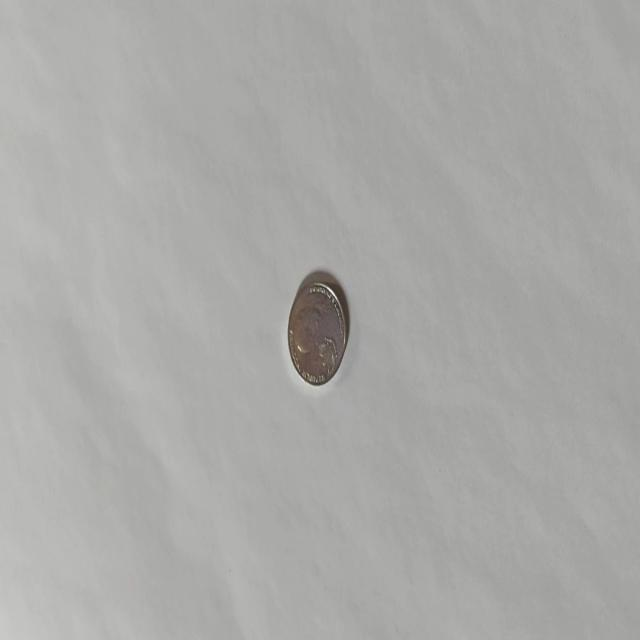lima ratus rupiah: (286, 277, 348, 387)
